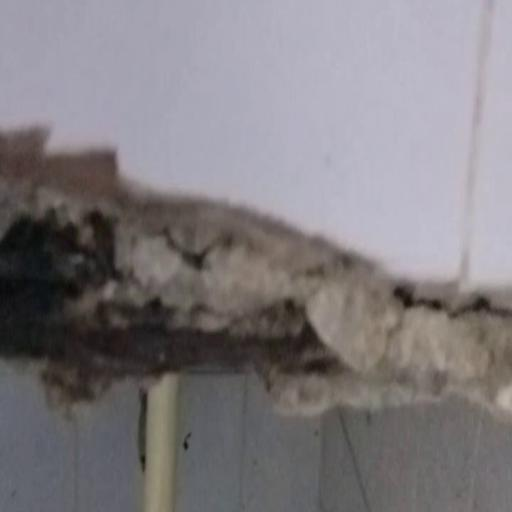spalling: (2, 129, 512, 423)
